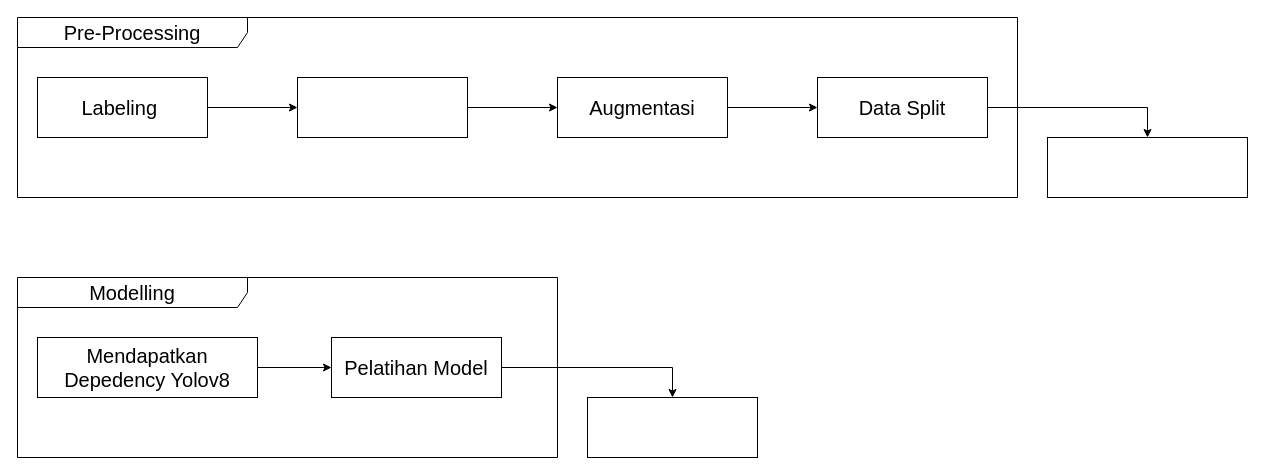
Some shapes in this 1265 by 475 pixel diagram are drawn without their labels. The centre of each missing label's shape, as x and y in pixels:
Evaluate: the point at 672,427
Mengimport dataset ke Projek: the point at 1147,167
Resize: the point at 382,107
